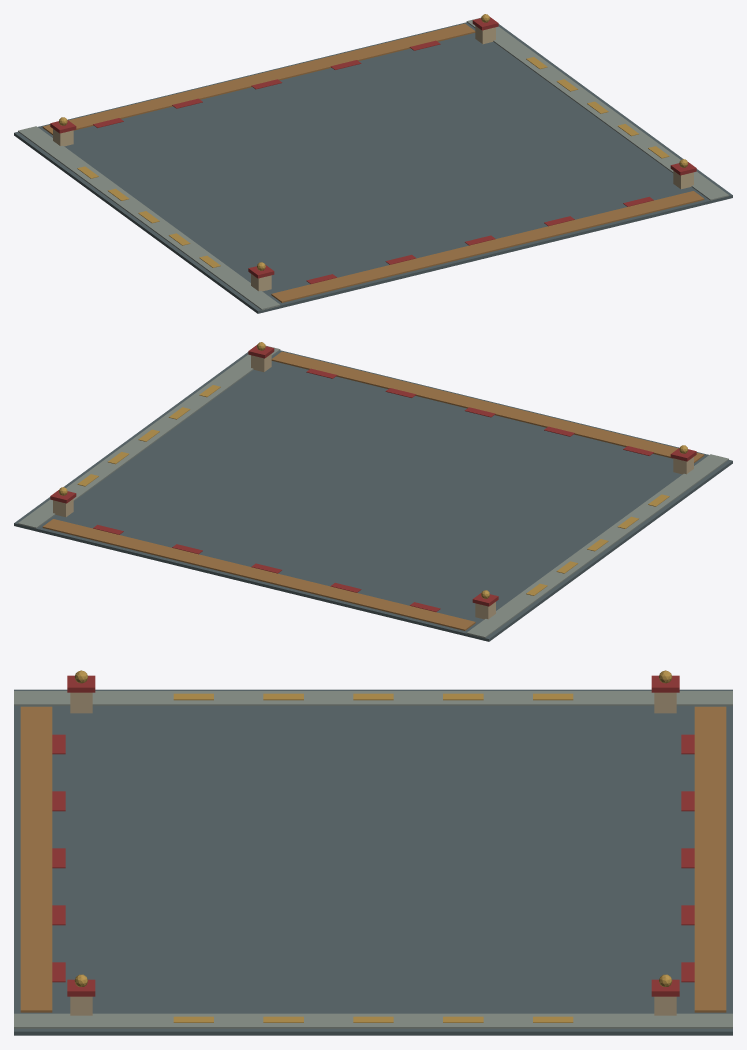
The model's file is PirateCove_HubPlaza_Showcase.glb.
3 views of the same model, one above another, from view 1: azimuth 30°, elevation 25°; view 2: azimuth 150°, elevation 25°; view 3: azimuth 270°, elevation 25° (orthographic). The views are drawn at different scales.
Parts seen in each view (by area): view 1: PirateCove_HubPlaza_Showcase; view 2: PirateCove_HubPlaza_Showcase; view 3: PirateCove_HubPlaza_Showcase.
Boxes of the visible parts, <box> form: PirateCove_HubPlaza_Showcase: <box>14,14,732,313</box>; PirateCove_HubPlaza_Showcase: <box>14,342,732,641</box>; PirateCove_HubPlaza_Showcase: <box>14,670,732,1035</box>.
Size of the model in its own units: 36 by 2.05 by 32.
